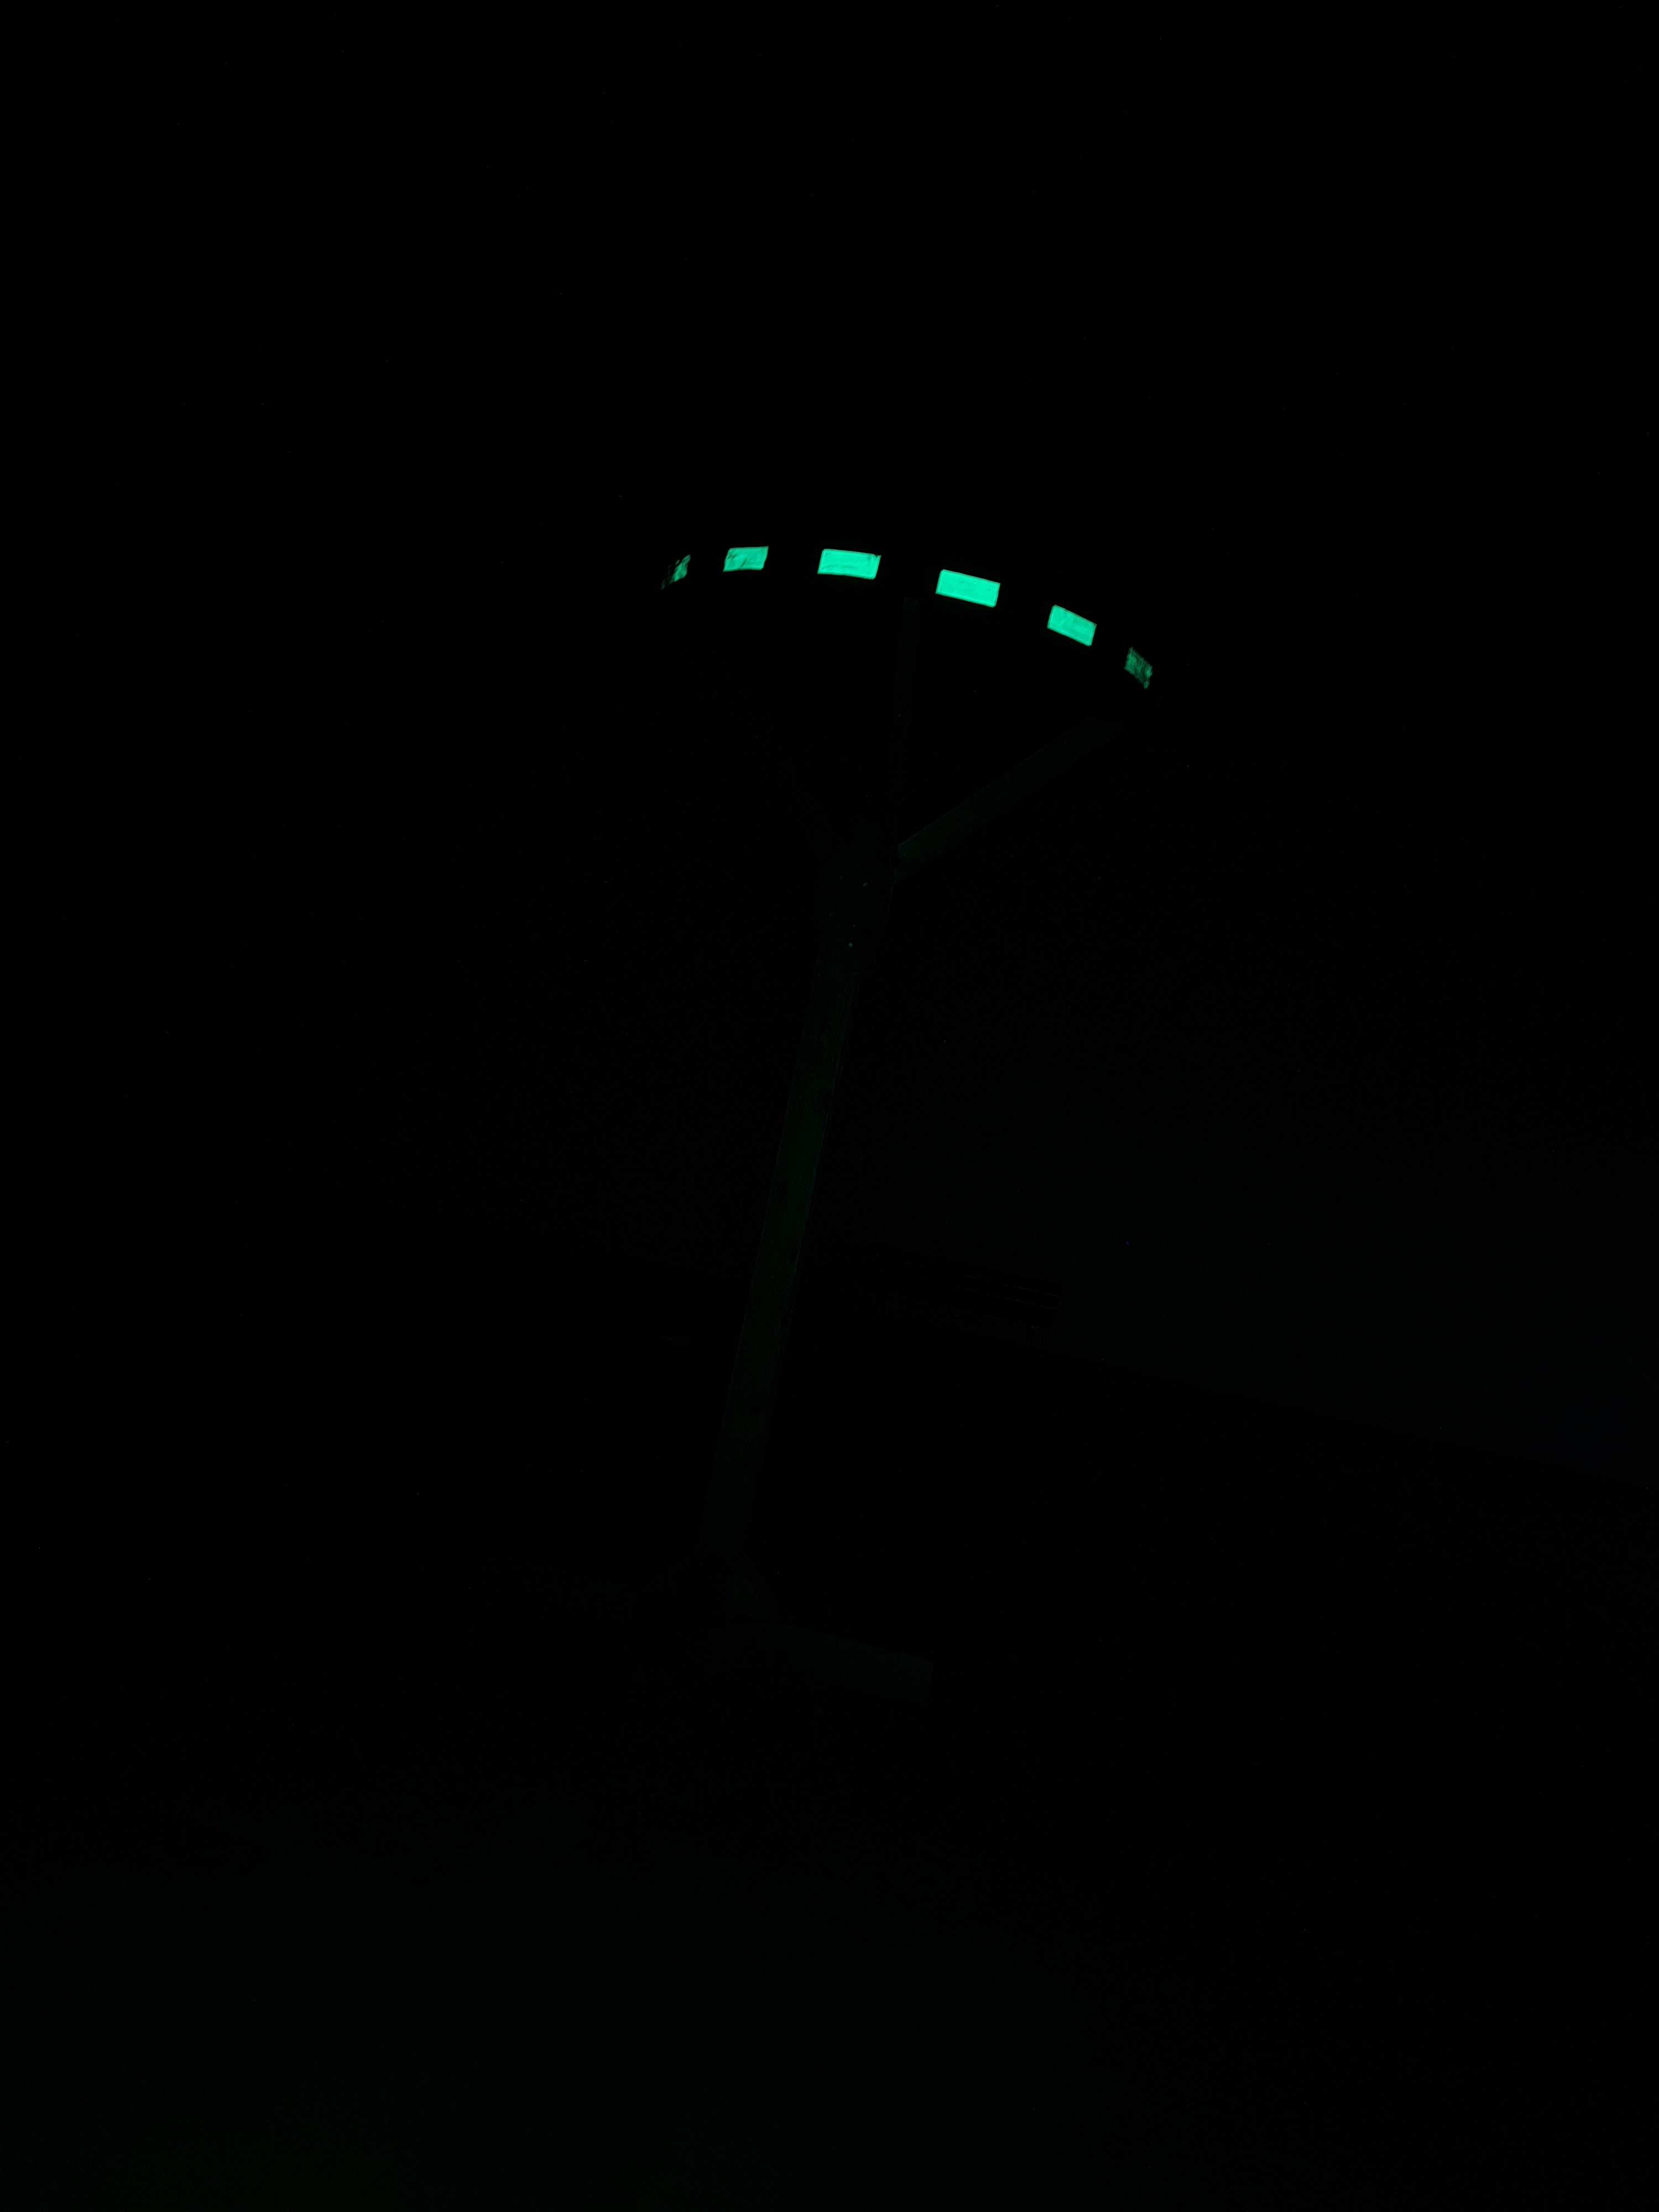hoop: (659, 538, 1164, 707)
